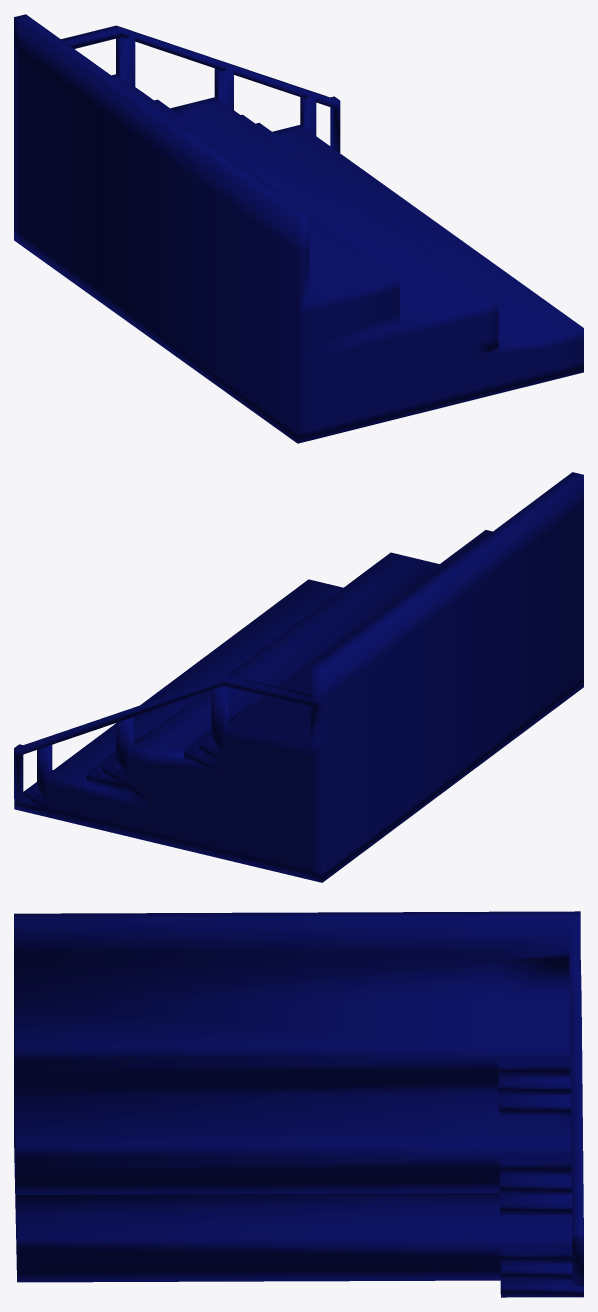
File: Stadium.fbx
3 views of the same model, one above another, from view 1: azimuth 30°, elevation 25°; view 2: azimuth 150°, elevation 25°; view 3: azimuth 270°, elevation 25° (orthographic). The views are drawn at different scales.
Parts seen in each view (by area): view 1: Cube.022; view 2: Cube.022; view 3: Cube.022.
Part boxes in pixels (x1,y1,x2,y2): Cube.022: [14, 14, 583, 443]; Cube.022: [14, 472, 583, 882]; Cube.022: [14, 911, 583, 1297].
Bounding box in the file's own units: 590 × 390 × 890.
